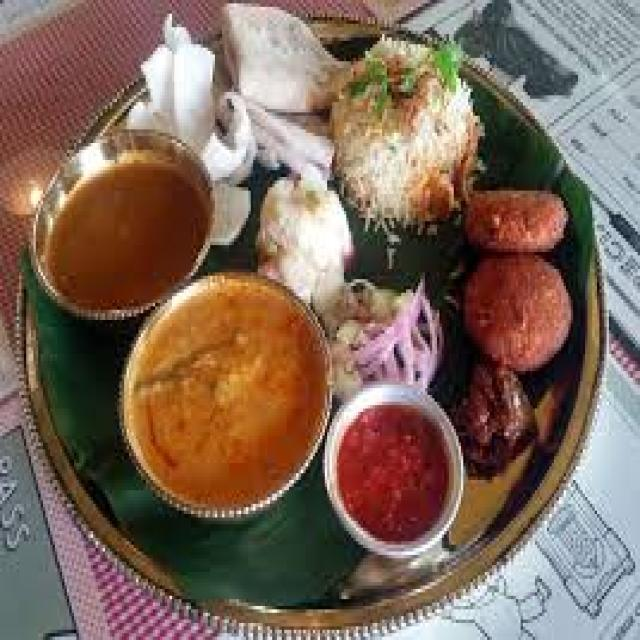rice: (323, 34, 482, 248), (255, 168, 353, 302)
sambar-rasam: (28, 137, 215, 327)
sweet: (332, 392, 458, 545), (460, 249, 578, 379)
